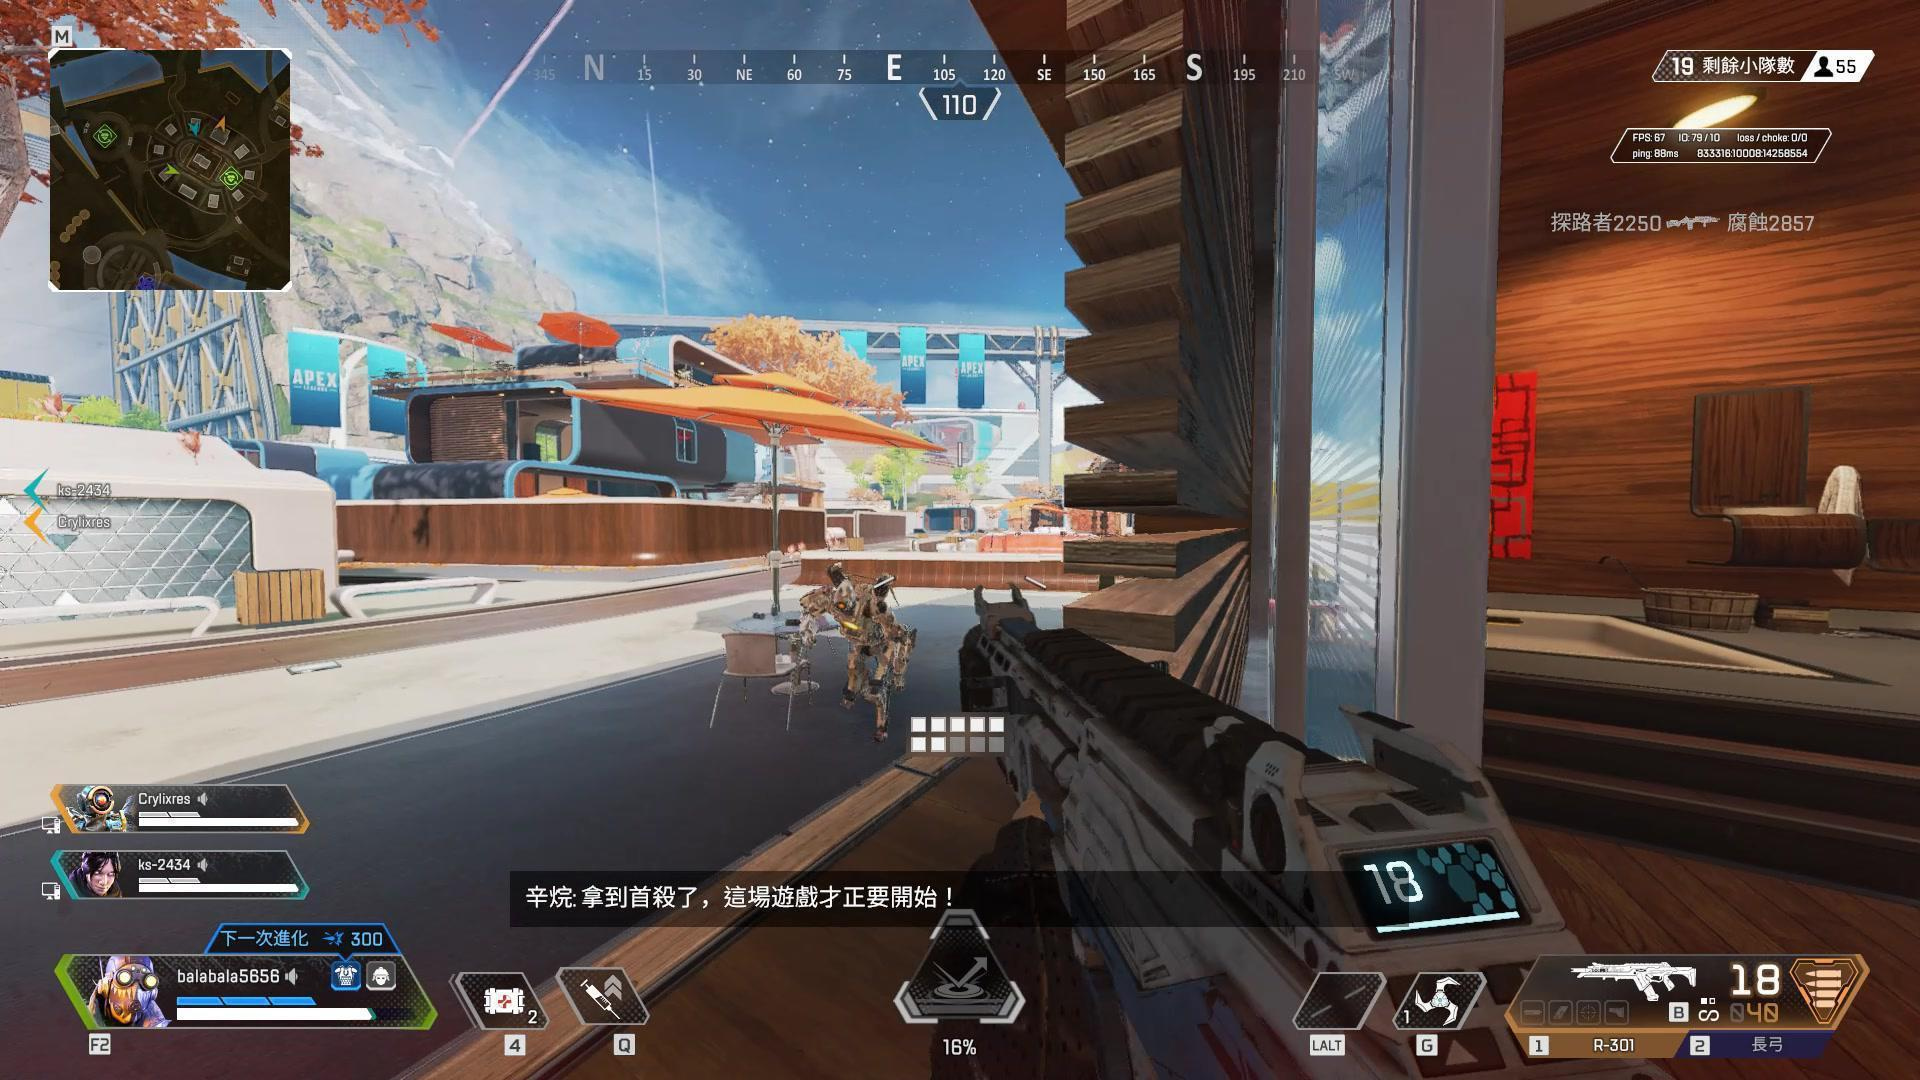avatar: (797, 575, 916, 743)
